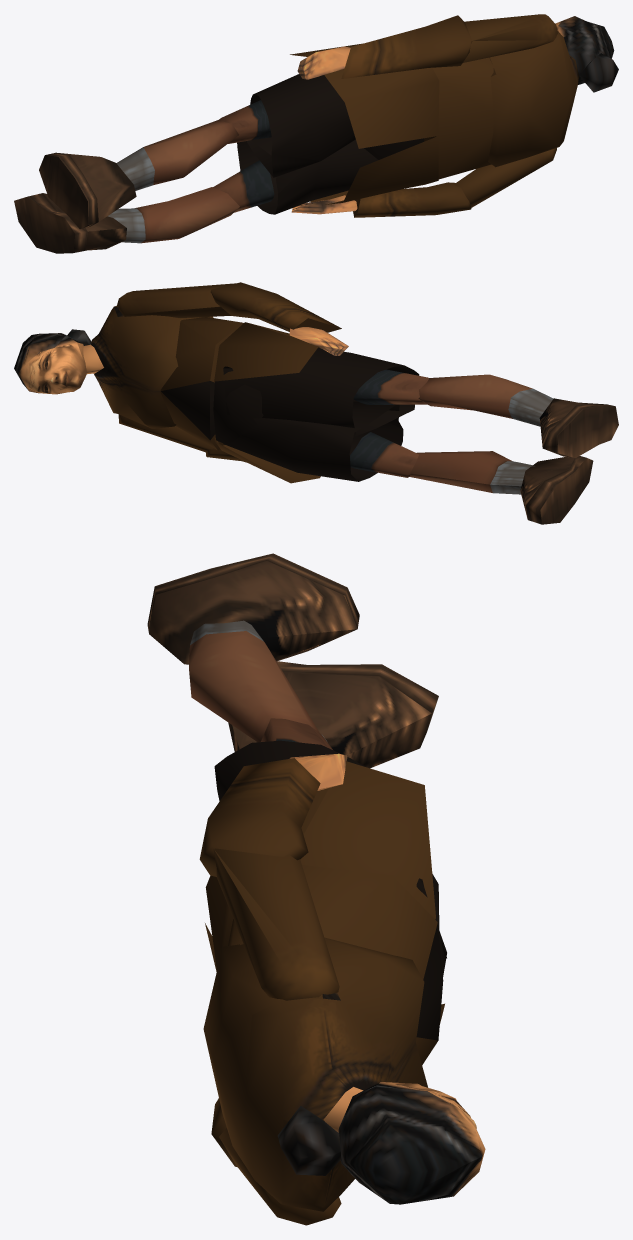
Rendered from ct_wom1.obj.
3 renders of one model, top to bottom at view 1: azimuth 30°, elevation 25°; view 2: azimuth 150°, elevation 25°; view 3: azimuth 270°, elevation 25°, orthographic. The views are drawn at different scales.
Bounding box in the file's own units: 1.56 × 0.4697 × 0.4271.
1 material, 1 textured.
